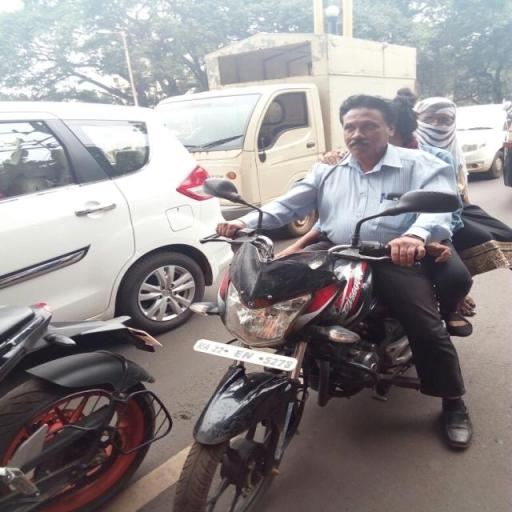tripple riding: (210, 86, 508, 440)
